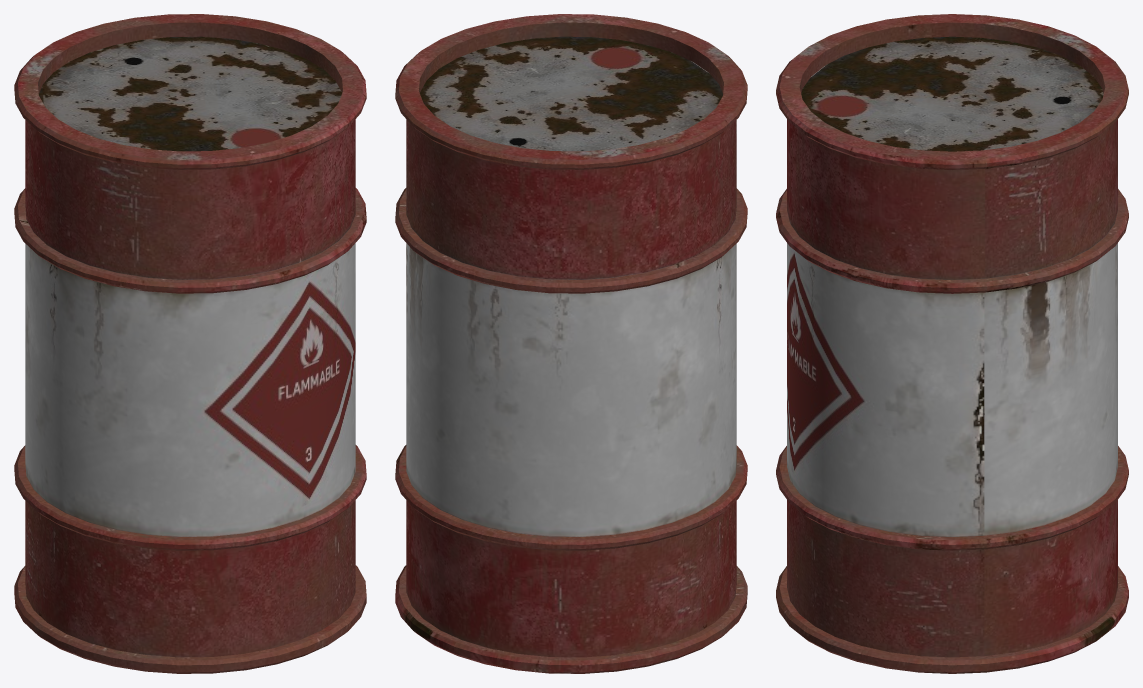
File: explosiveBarrel01.glb
3 views of the same model, side by side, from view 1: azimuth 30°, elevation 25°; view 2: azimuth 150°, elevation 25°; view 3: azimuth 270°, elevation 25° (orthographic).
Visible parts, largest first — view 1: Cylinder.002; view 2: Cylinder.002; view 3: Cylinder.002.
Part boxes in pixels (x1,y1,x2,y2): Cylinder.002: (14,14,366,673); Cylinder.002: (395,14,747,673); Cylinder.002: (776,14,1128,673).
Size of the model in its own units: 968 by 1555 by 968.
Materials: 1 (1 with a texture image).
